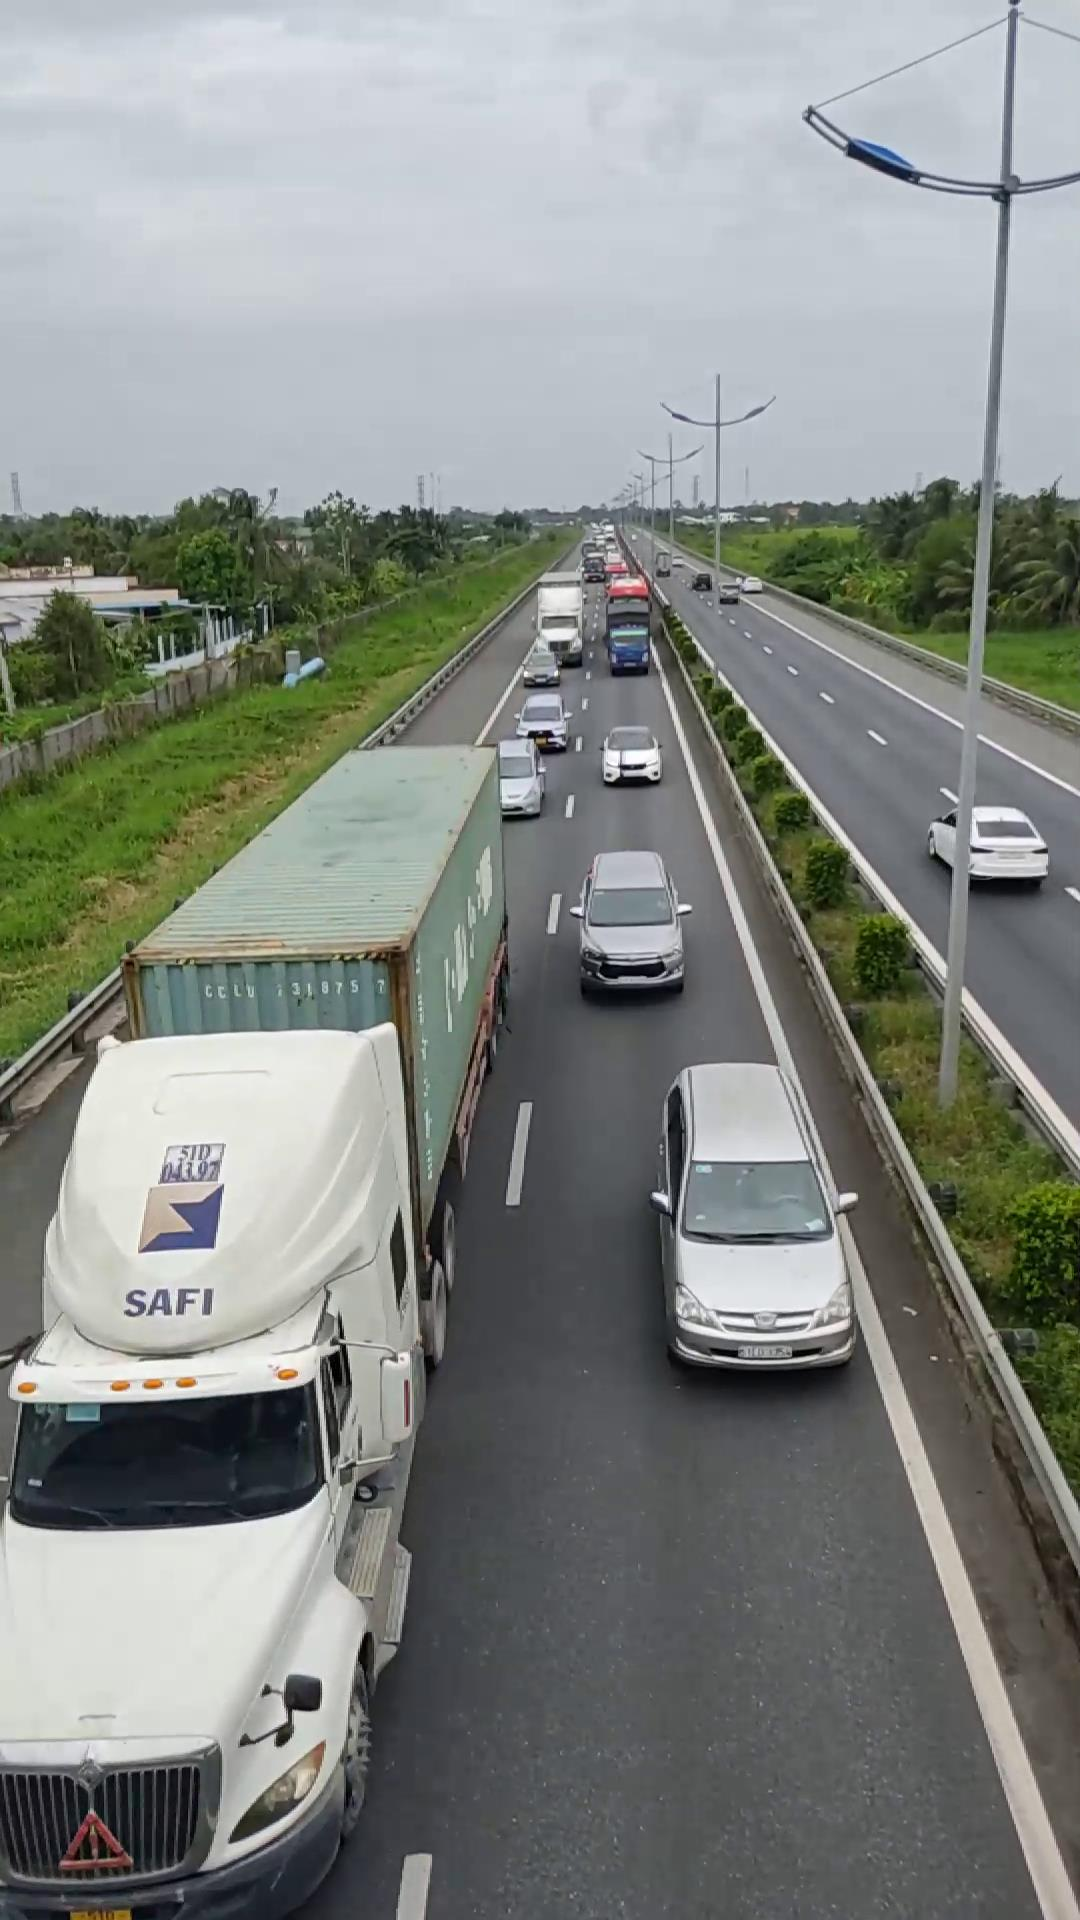car: (649, 1058, 861, 1371), (567, 849, 690, 1000), (926, 802, 1048, 887), (597, 723, 663, 785)
container: (5, 735, 513, 1920)
